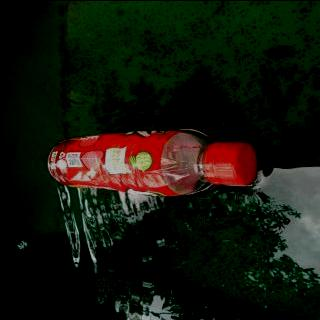bottle: (44, 128, 262, 196)
